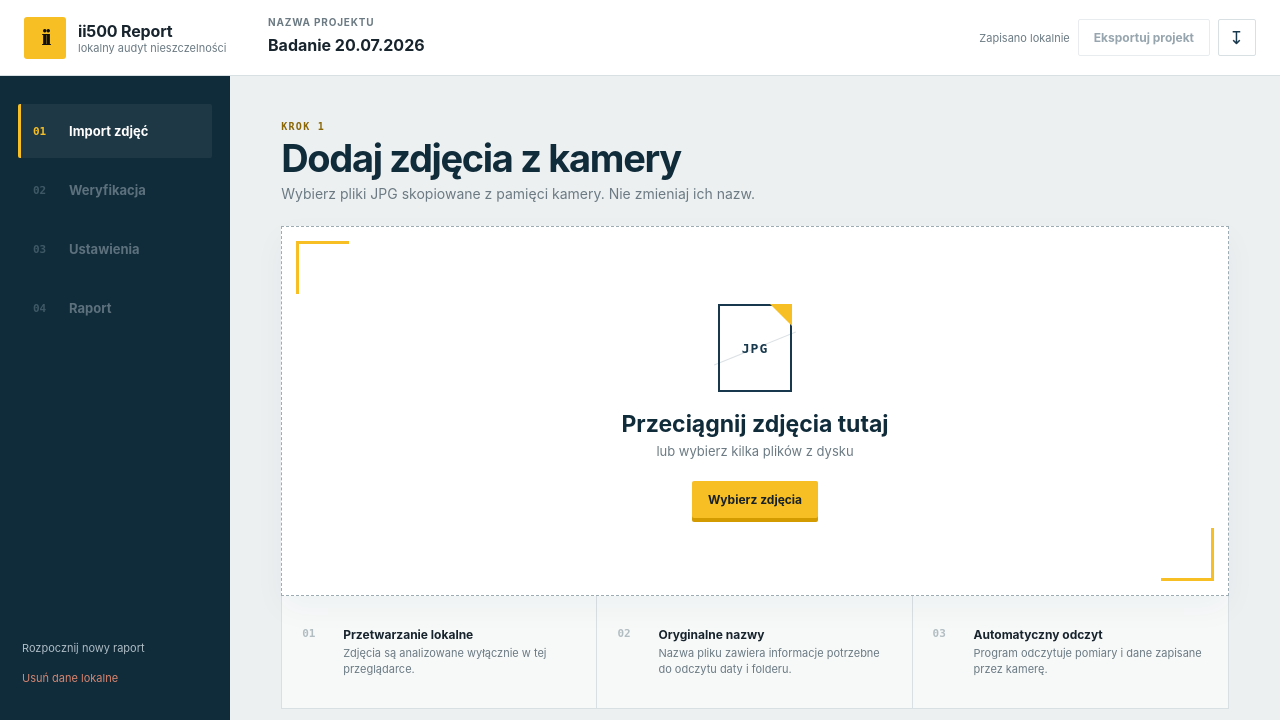
Test: new report workflow › offers export, discard and cancel choices
What coordinates should you click on to do the following:
click the button "Rozpocznij nowy raport"
I would click on:
 (115, 648)
Its box is left=18, top=634, right=212, bottom=662.
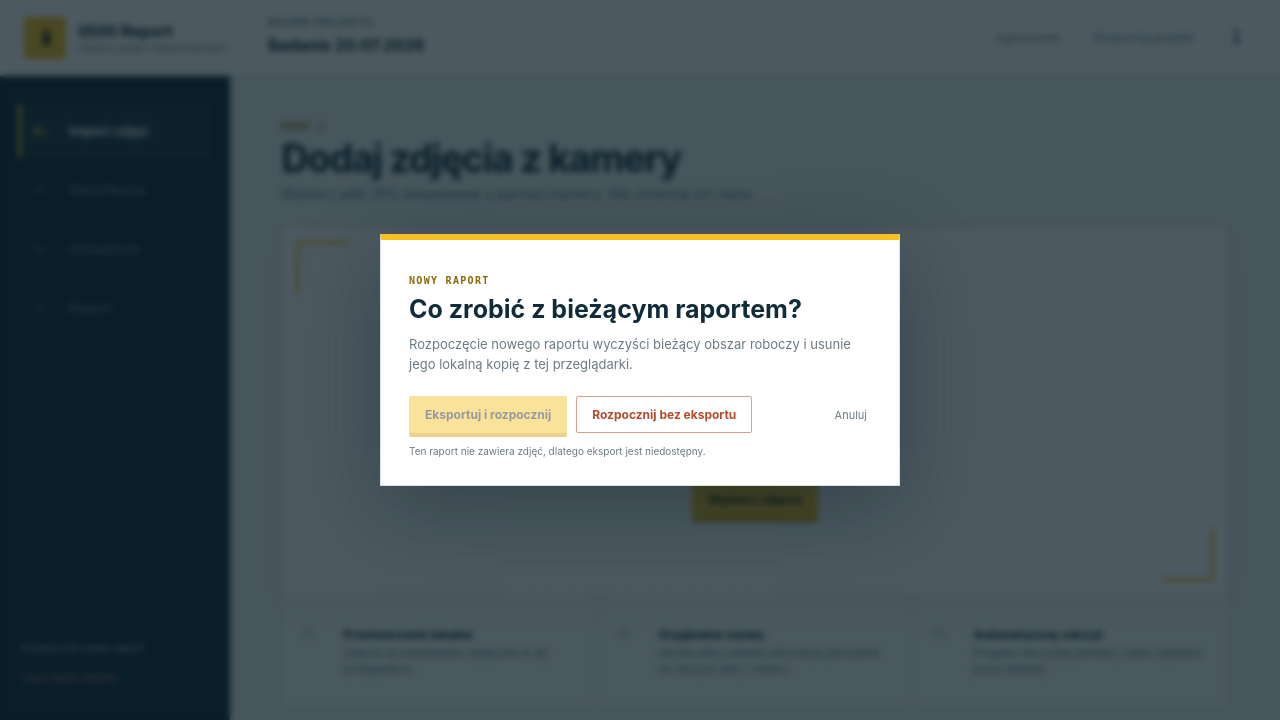
Check: the dialog "Co zrobić z bieżącym raportem?" is shown, box left=380, top=234, right=900, bottom=486
Check: the button "Eksportuj i rozpocznij" is disabled, box left=409, top=396, right=567, bottom=433
Check: the button "Rozpocznij bez eksportu" is shown, box left=576, top=396, right=752, bottom=433
What coordinates should you click on to do the following:
click the button "Anuluj"
I would click on:
 (851, 414)
Its box is left=831, top=400, right=871, bottom=428.
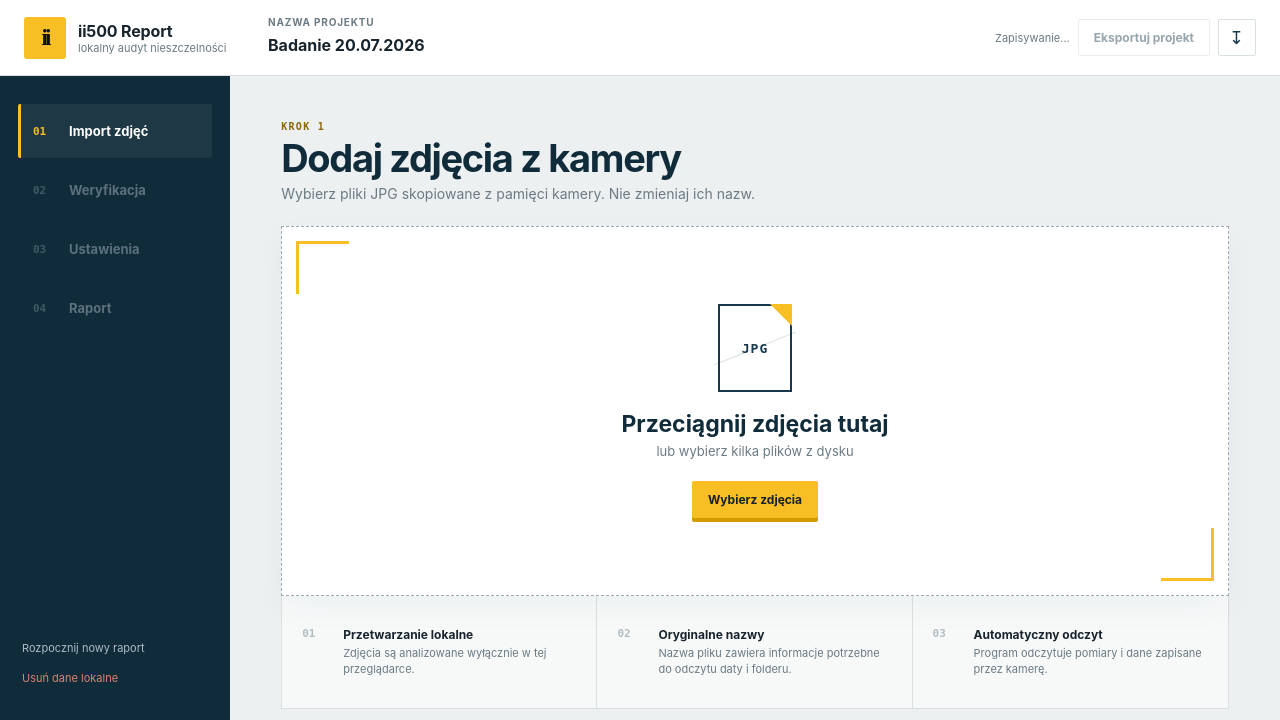
Check: the dialog is gone
